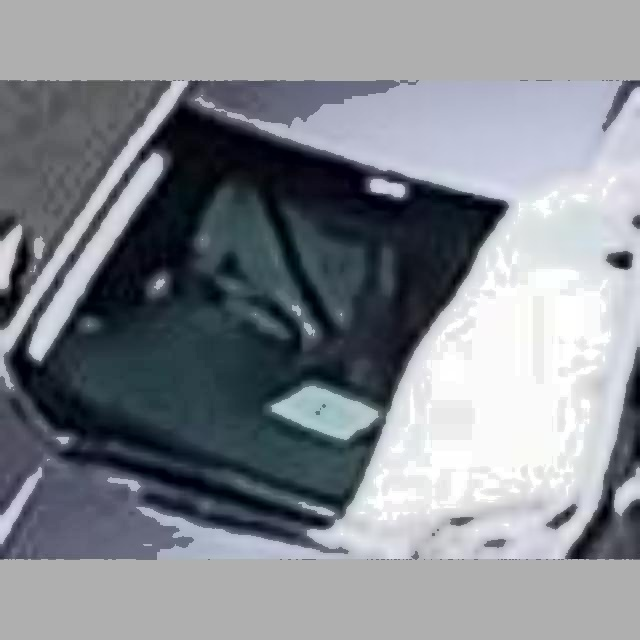pakai: (167, 172, 430, 420)
